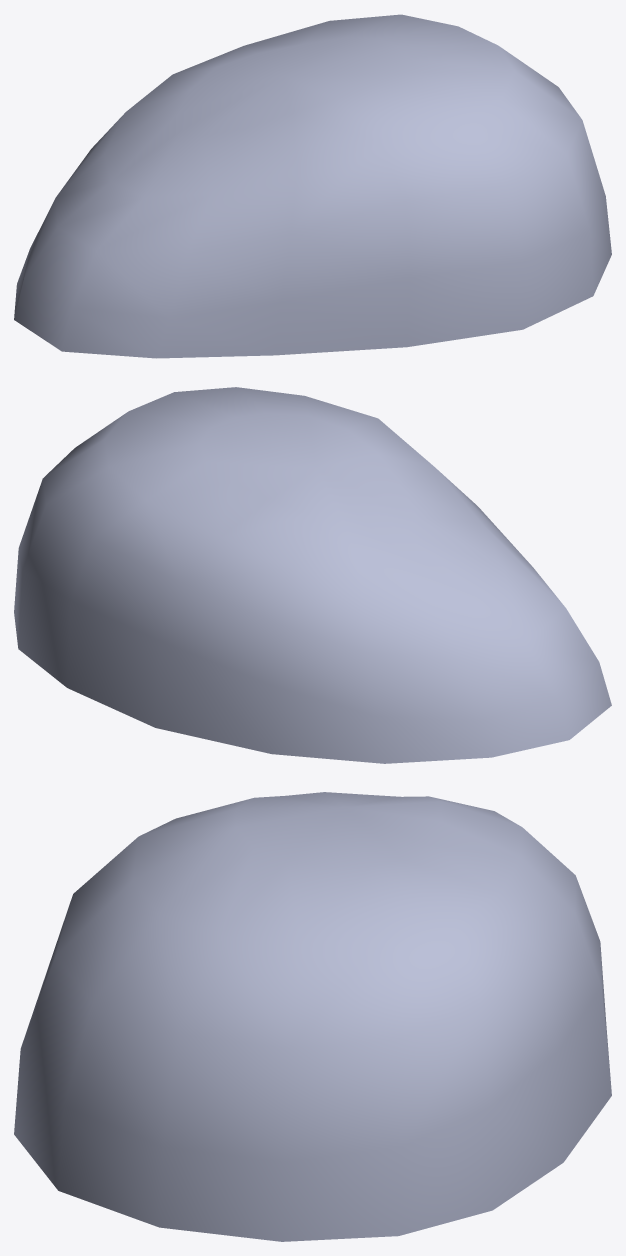
The model's file is Rock_01.fbx.
3 views of the same model, one above another, from view 1: azimuth 30°, elevation 25°; view 2: azimuth 150°, elevation 25°; view 3: azimuth 270°, elevation 25° (orthographic). The views are drawn at different scales.
Parts seen in each view (by area): view 1: Rock_01; view 2: Rock_01; view 3: Rock_01.
Boxes of the visible parts, <box> form: Rock_01: <box>14,14,611,358</box>; Rock_01: <box>14,387,611,763</box>; Rock_01: <box>14,792,611,1241</box>.
Bounding box in the file's own units: 28.44 × 10.05 × 20.64.
